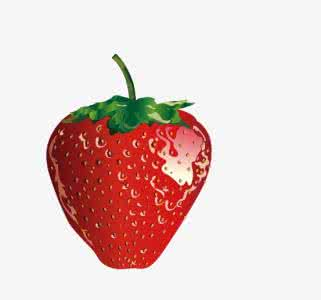strawberry: (43, 49, 213, 270)
